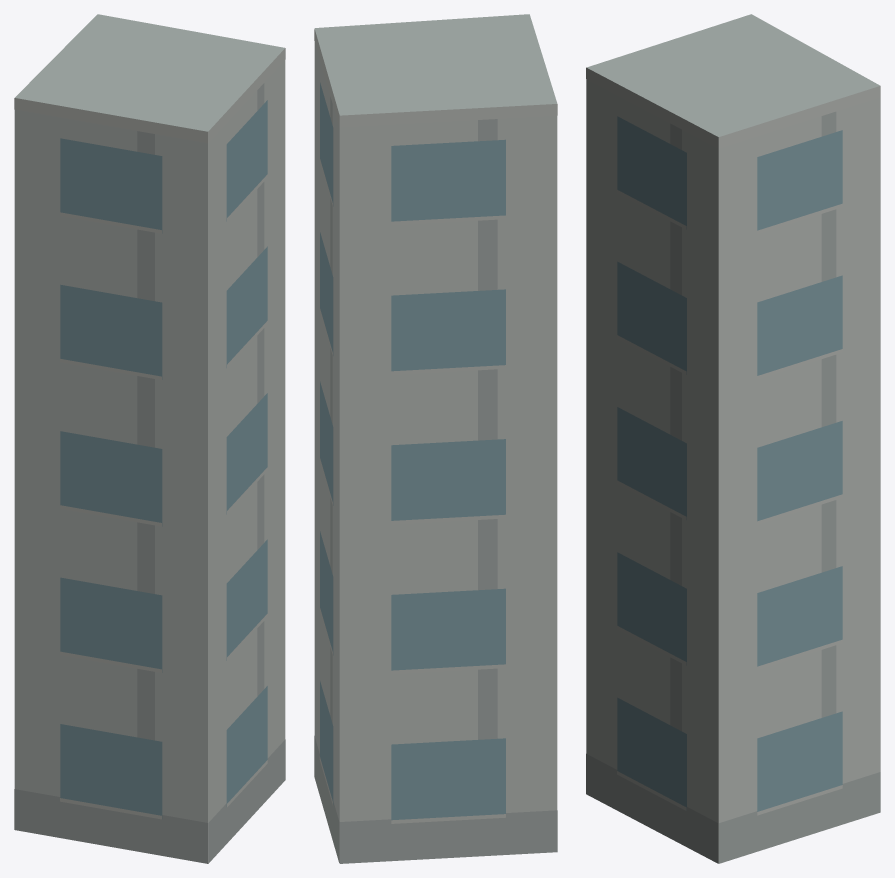
File: survey-upis-32830232.glb
The picture shows the model from 3 angles, left to right: view 1: azimuth 30°, elevation 25°; view 2: azimuth 150°, elevation 25°; view 3: azimuth 270°, elevation 25°; orthographic projection. The views are drawn at different scales.
Visible parts, largest first — view 1: survey-upis-32830232.tmp; view 2: survey-upis-32830232.tmp; view 3: survey-upis-32830232.tmp.
Boxes of the visible parts, x1=… form: survey-upis-32830232.tmp: x1=14, y1=14, x2=285, y2=863; survey-upis-32830232.tmp: x1=314, y1=14, x2=557, y2=863; survey-upis-32830232.tmp: x1=586, y1=14, x2=880, y2=863.
Size of the model in its own units: 5.55 by 15.25 by 5.61.
